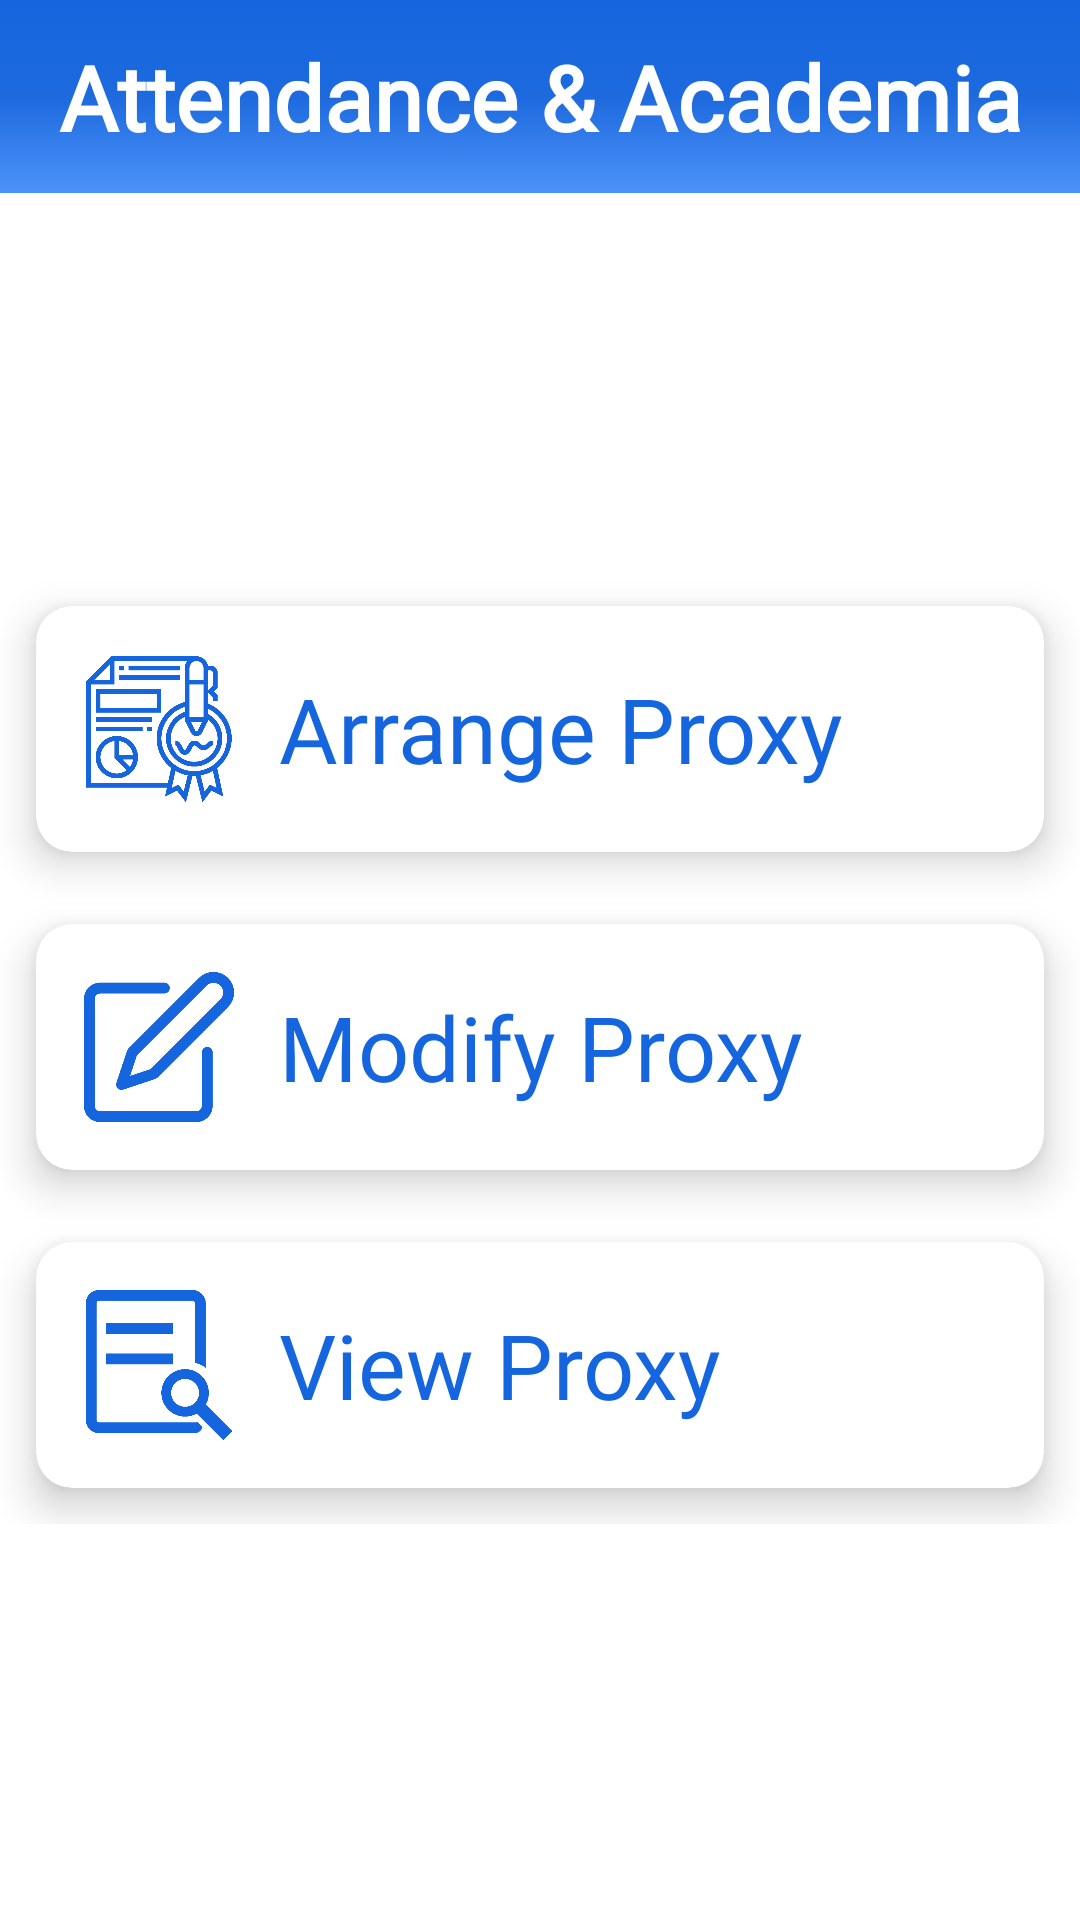

Named icons in this screenshot (1080*1920) and their bounding boxes, {"x1": x1, "y1": y1, "x2": x2, "y2": y2}:
edit: {"x1": 84, "y1": 972, "x2": 234, "y2": 1122}
